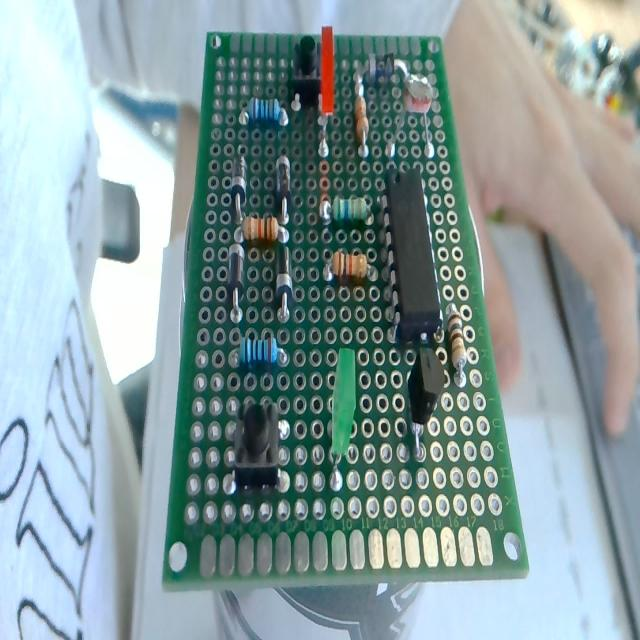IC: (384, 166, 440, 342)
cds: (398, 70, 434, 161)
diode: (228, 243, 245, 322), (276, 246, 292, 320), (368, 47, 399, 85), (230, 156, 247, 220), (275, 157, 291, 223)
led: (328, 345, 357, 485), (316, 24, 335, 150)
resistor: (327, 248, 371, 286), (239, 99, 287, 129), (446, 308, 466, 376), (240, 335, 280, 368), (354, 73, 369, 156), (322, 196, 366, 223), (242, 214, 280, 242)
switch: (233, 398, 280, 490), (292, 35, 322, 110)
transistor: (407, 348, 444, 459)
